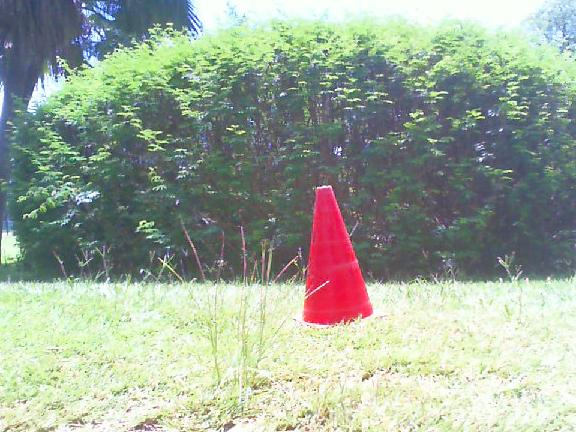0 cone: (292, 185, 387, 330)
